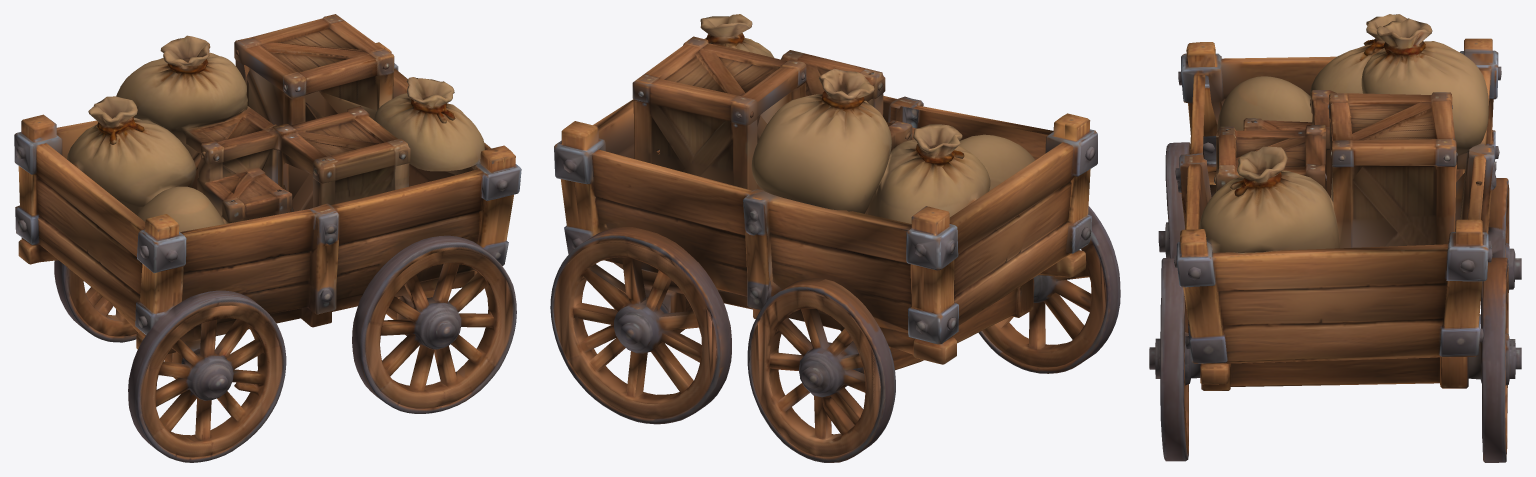
Rendered from cart.glb.
3 views of the same model, side by side, from view 1: azimuth 30°, elevation 25°; view 2: azimuth 150°, elevation 25°; view 3: azimuth 270°, elevation 25° (orthographic). The views are drawn at different scales.
Parts seen in each view (by area): view 1: material; view 2: material; view 3: material.
Boxes of the visible parts, box(x1,y1,x2,y2) form: material: box(14, 14, 521, 462); material: box(550, 14, 1120, 462); material: box(1149, 14, 1521, 462).
Size of the model in its own units: 1.9 by 1.51 by 1.45.
1 material, 1 textured.
